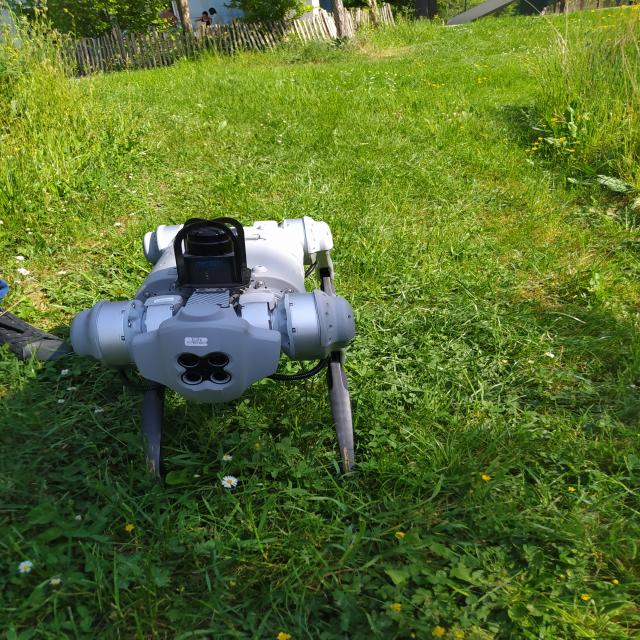unitree-go1-robot: (50, 202, 393, 496)
